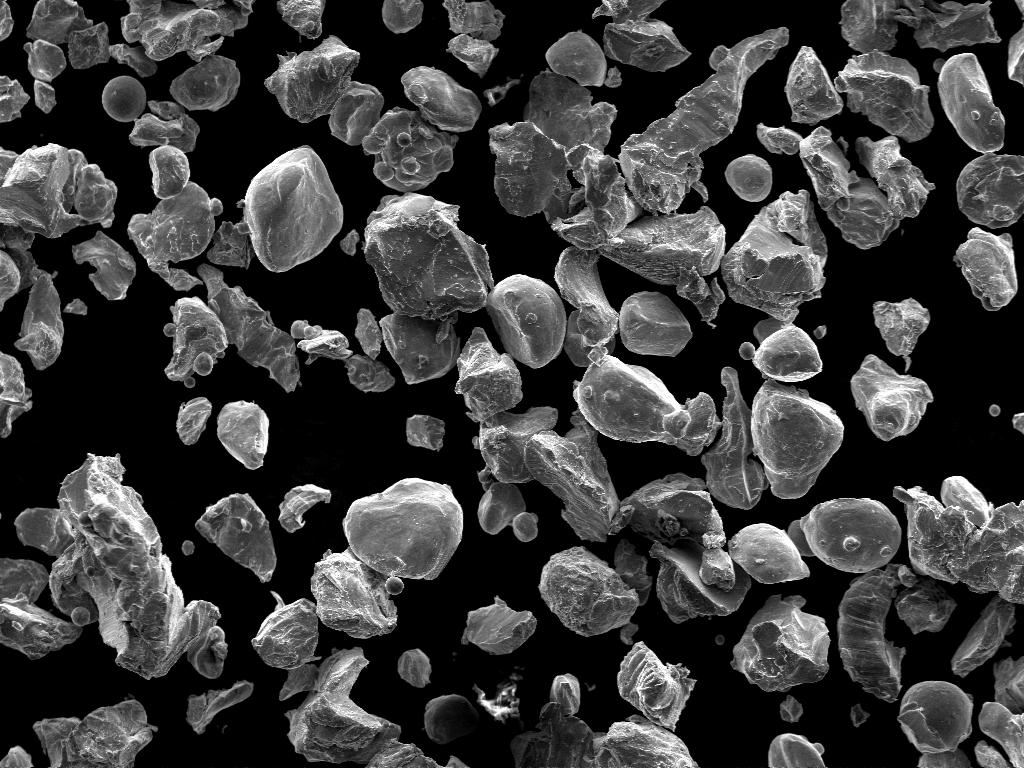Powder: (14, 454, 230, 679), (478, 408, 726, 548), (618, 28, 788, 214), (490, 70, 642, 250), (164, 264, 300, 392), (894, 476, 1024, 604), (800, 126, 934, 249), (364, 194, 494, 319), (574, 346, 720, 456), (600, 206, 726, 325), (720, 190, 828, 323), (328, 82, 458, 192), (344, 478, 462, 594), (280, 649, 400, 763), (128, 146, 222, 290), (238, 146, 344, 272), (510, 702, 696, 768), (540, 540, 652, 646), (0, 144, 118, 238), (752, 380, 844, 498), (838, 564, 916, 702), (732, 594, 830, 692), (702, 368, 768, 509), (0, 224, 64, 369), (834, 50, 934, 142), (840, 0, 1000, 53), (788, 498, 900, 573), (650, 540, 752, 622), (34, 700, 158, 767), (0, 558, 82, 659), (264, 36, 360, 122), (122, 0, 253, 61), (554, 246, 618, 367), (310, 548, 396, 638), (486, 274, 566, 368), (592, 0, 690, 72), (932, 54, 1004, 152), (850, 354, 932, 440), (196, 494, 276, 582), (618, 642, 696, 729), (456, 328, 522, 422), (380, 314, 460, 384), (738, 316, 822, 382), (898, 682, 972, 754), (954, 228, 1018, 310), (252, 592, 320, 669), (402, 66, 482, 131), (952, 596, 1016, 676), (956, 154, 1024, 228), (68, 22, 158, 77), (728, 524, 810, 584), (618, 292, 692, 355), (784, 46, 844, 123), (72, 230, 136, 300), (462, 596, 536, 654), (872, 298, 930, 371), (170, 54, 240, 111), (186, 680, 254, 734), (478, 482, 538, 542), (130, 102, 200, 152), (546, 30, 608, 86), (894, 578, 956, 634), (218, 402, 268, 470), (978, 702, 1024, 767), (26, 0, 92, 44), (0, 352, 32, 437), (424, 694, 478, 744), (278, 484, 332, 532), (442, 0, 504, 41), (290, 322, 352, 363), (474, 672, 522, 721), (446, 34, 498, 78), (724, 154, 772, 201), (366, 740, 442, 768), (208, 222, 254, 267), (102, 76, 146, 121), (768, 734, 824, 768), (344, 354, 394, 392), (276, 0, 325, 38), (24, 40, 66, 82), (994, 656, 1024, 714), (178, 398, 212, 446), (700, 548, 736, 589), (382, 0, 424, 34), (354, 308, 382, 359), (406, 414, 444, 451), (756, 125, 802, 155), (0, 76, 30, 121), (550, 674, 580, 716), (398, 648, 430, 687), (0, 250, 20, 309), (918, 748, 972, 768), (484, 78, 522, 105), (974, 740, 1010, 768), (1008, 26, 1024, 85), (34, 80, 56, 114), (0, 746, 32, 768), (780, 696, 804, 722), (0, 0, 14, 41), (340, 230, 360, 255), (850, 704, 870, 727), (478, 466, 496, 491), (64, 298, 88, 315), (604, 66, 622, 88), (444, 756, 468, 767), (1012, 412, 1024, 433), (182, 540, 196, 555), (988, 404, 1000, 416), (714, 634, 726, 645)
